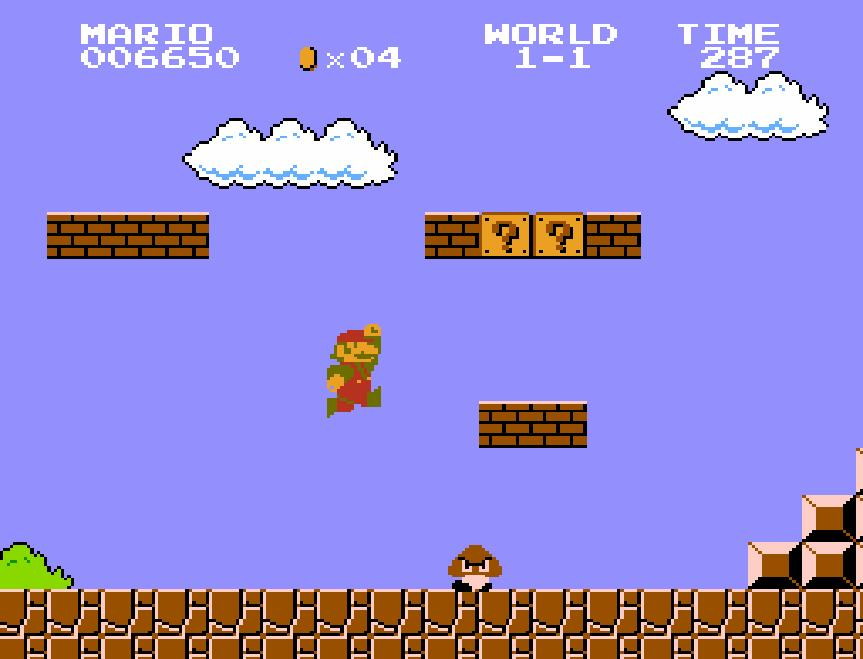big_mario: (324, 322, 382, 420)
